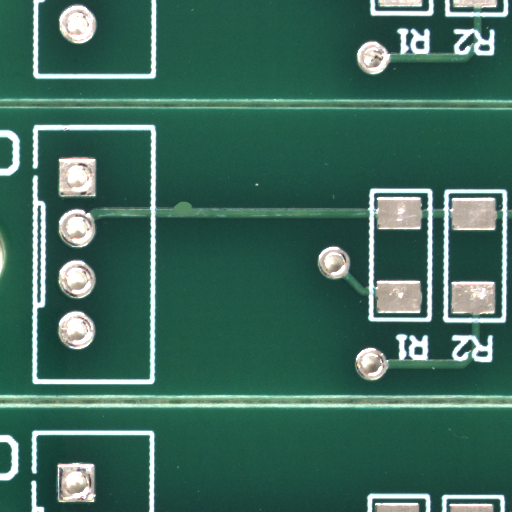Spur: (183, 205, 204, 214)
